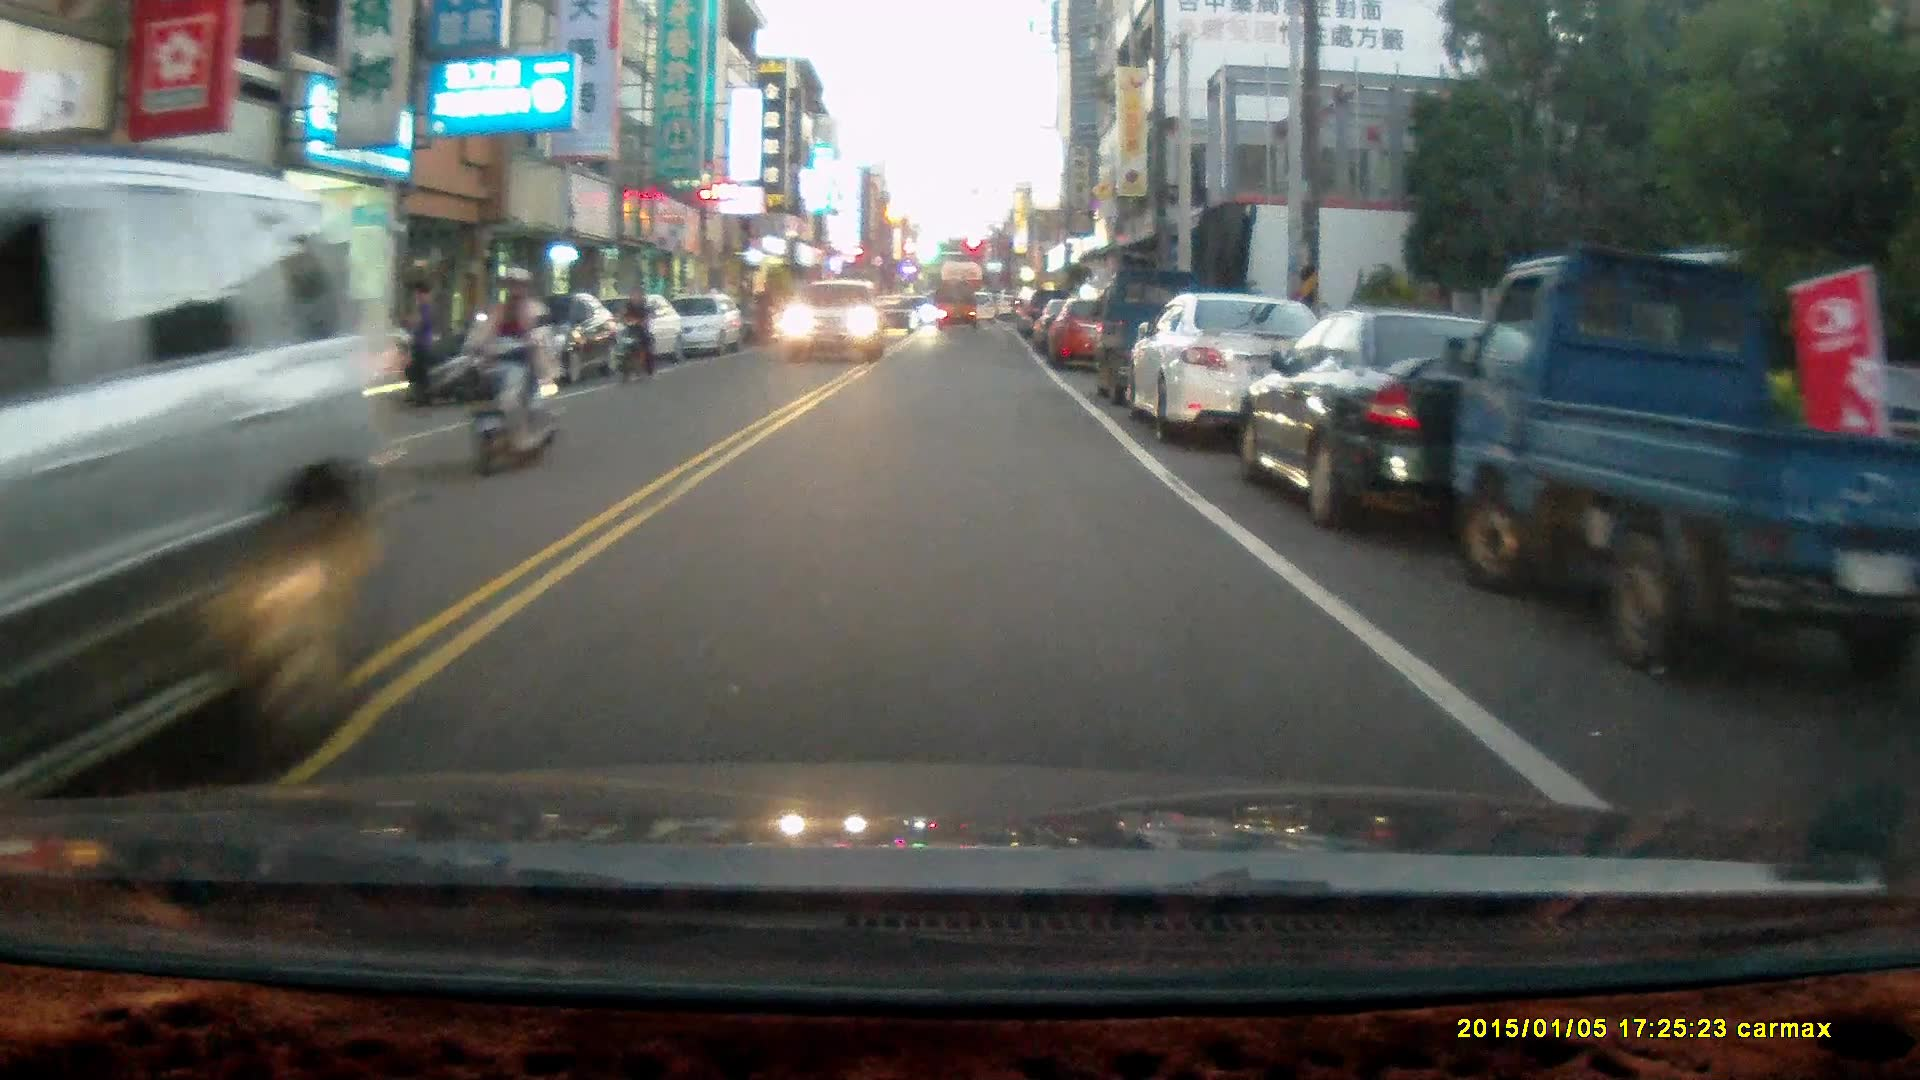pedestrian: (390, 279, 441, 410), (754, 281, 776, 343)
rider: (463, 265, 559, 479), (614, 287, 657, 383)
vehicle: (1453, 247, 1911, 682), (1241, 314, 1646, 545), (1130, 291, 1328, 448), (779, 280, 886, 362), (1048, 299, 1134, 375), (668, 295, 750, 363), (871, 295, 925, 341), (937, 282, 979, 334)
